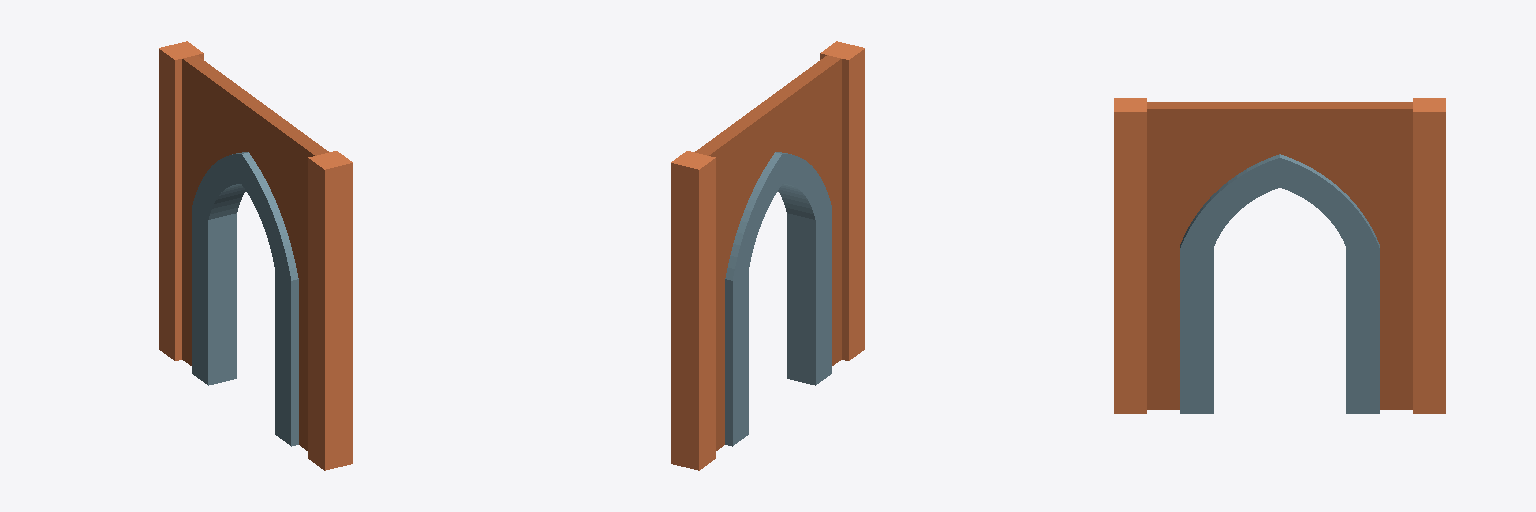
The model's file is wallWoodDoorwayRound.obj.
3 views of the same model, side by side, from view 1: azimuth 30°, elevation 25°; view 2: azimuth 150°, elevation 25°; view 3: azimuth 270°, elevation 25° (orthographic).
Visible parts, largest first — view 1: wallWoodDoorwayRound; view 2: wallWoodDoorwayRound; view 3: wallWoodDoorwayRound.
Part boxes in pixels (left/top/right/bottom): wallWoodDoorwayRound: left=159, top=41, right=352, bottom=470; wallWoodDoorwayRound: left=671, top=41, right=864, bottom=470; wallWoodDoorwayRound: left=1114, top=98, right=1445, bottom=413.
Bounding box in the file's own units: 0.1 × 1 × 1.